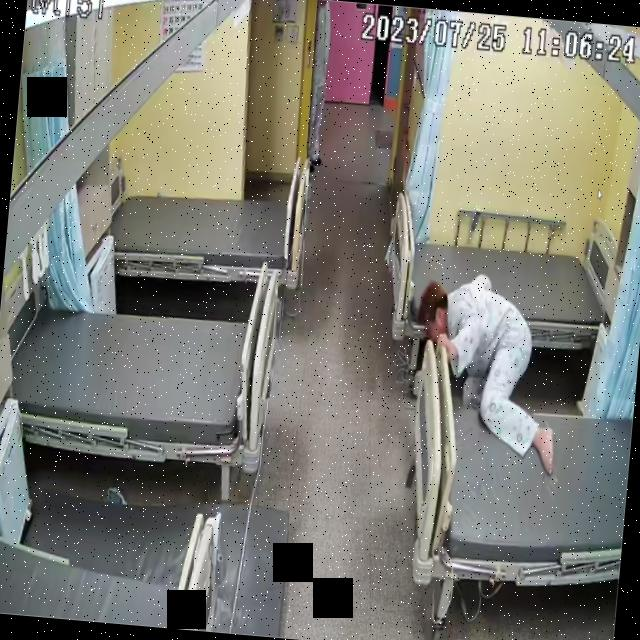bed: (398, 333, 638, 596), (2, 291, 278, 466), (381, 219, 624, 358), (108, 174, 306, 288)
danger: (407, 270, 572, 473)
patient: (405, 272, 570, 474)
